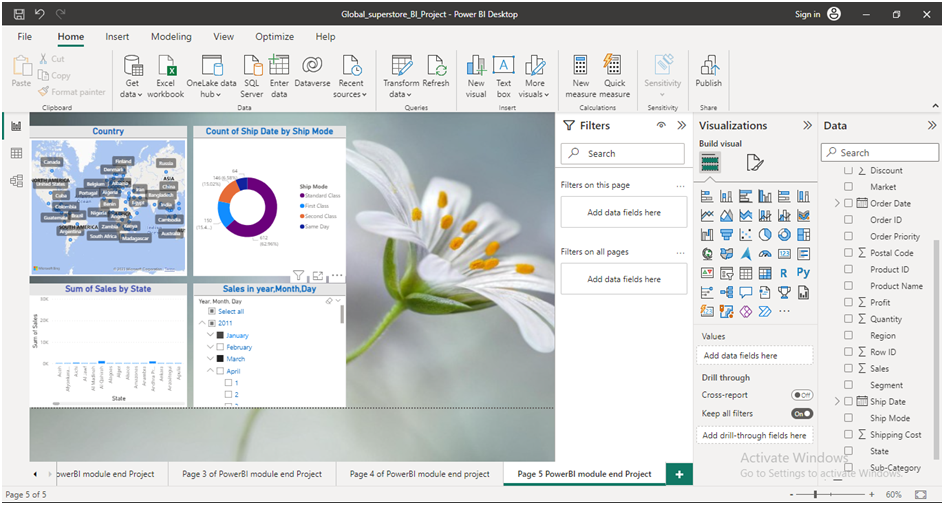

The dashboard page shown, as its layout file describes it:
{"tool":"powerbi","page":{"name":"Page 5 PowerBI module end Project","canvas":[1280,720],"ordinal":4},"visuals":[{"type":"map","fields":{"Category":["Orders.Country","Orders.Region","Orders.Market"]},"box":[0,33.6,384.2,365.7],"z":0},{"type":"donutChart","fields":{"Category":["Orders.Ship Mode"],"Y":["Orders.Ship Date"]},"box":[399.3,33.6,372.4,365.7],"z":1},{"type":"columnChart","fields":{"Category":["Orders.City","Orders.State","Orders.Region","Orders.Market"],"Y":["Orders.Sales"]},"box":[0,417.7,384.2,302],"z":2},{"type":"slicer","title":"Sales in year,Month,Day","fields":{"Values":["Orders.Order Date.Variation.Date Hierarchy.Year","Orders.Order Date.Variation.Date Hierarchy.Month","Orders.Order Date.Variation.Date Hierarchy.Day"]},"box":[399,418,372,302],"z":3}]}

Visuals, with their boxes on the page's 1280x720 design canvas (x1, y1, x2, y2). These are canvas units, not pixel positions in the 944x505 screenshot, which may show the page scaled, cropped or inside an application window:
map - Orders.Country x Orders.Region: [0, 34, 384, 399]
donutChart - Orders.Ship Mode x Orders.Ship Date: [399, 34, 772, 399]
columnChart - Orders.City x Orders.State: [0, 418, 384, 720]
"Sales in year,Month,Day" slicer: [399, 418, 771, 720]
